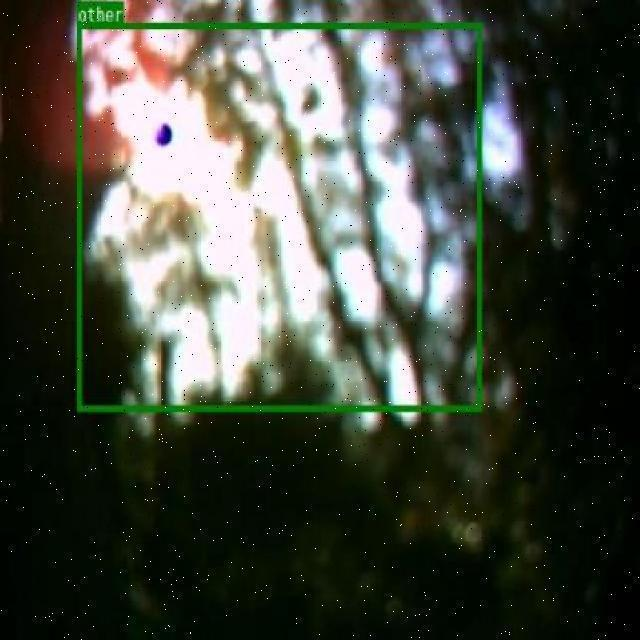Smoke: (76, 22, 481, 410)
